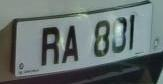0: (111, 14, 129, 55)
1: (126, 11, 140, 55)
8: (91, 14, 112, 65)
A: (61, 21, 83, 66)
R: (38, 22, 63, 69)
